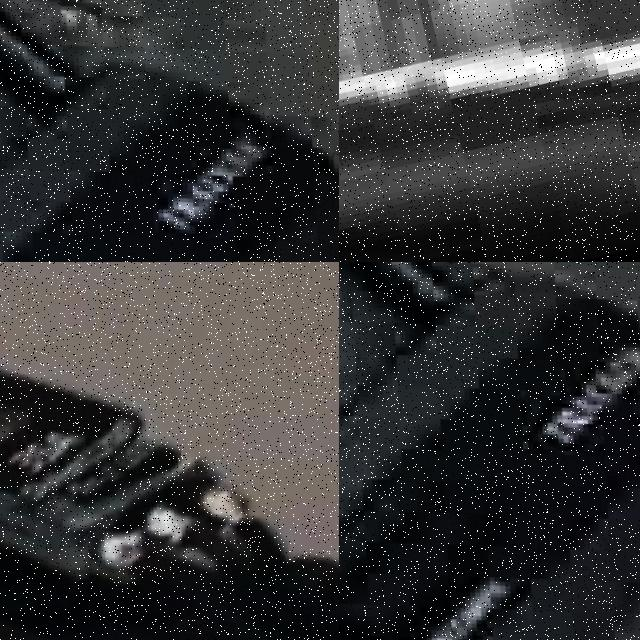0: (339, 262, 640, 640), (0, 0, 339, 262)
drone: (0, 262, 339, 640)
